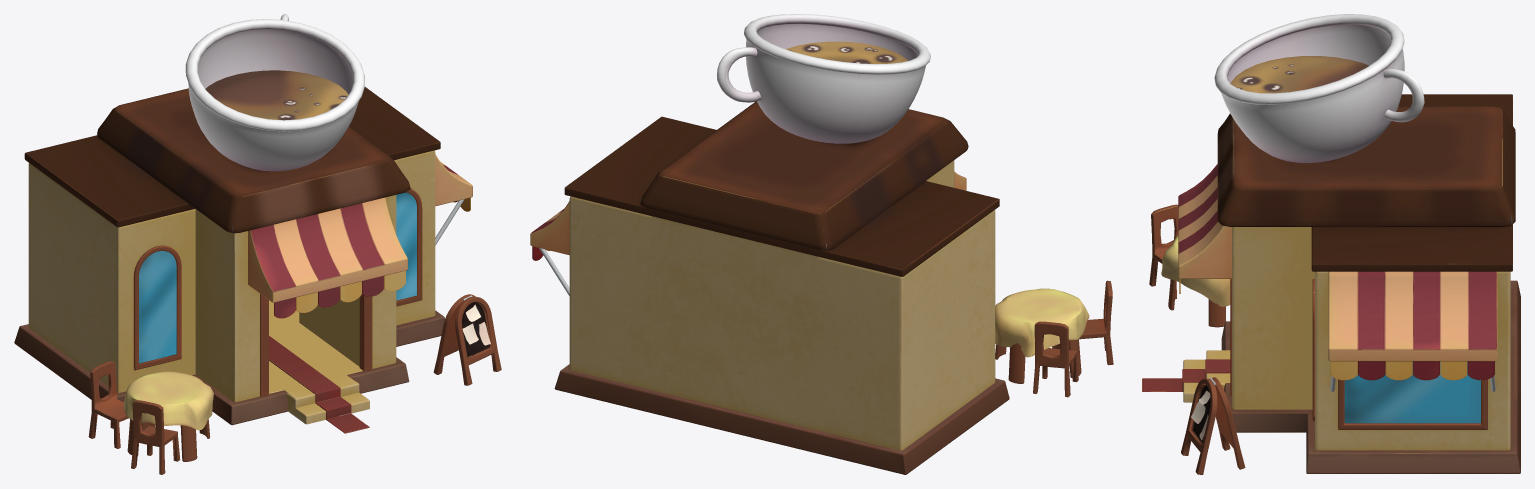
Rendered from stylized_coffee_shop_sketchfabweeklychallenge.glb.
3 views of the same model, side by side, from view 1: azimuth 30°, elevation 25°; view 2: azimuth 150°, elevation 25°; view 3: azimuth 270°, elevation 25° (orthographic). The views are drawn at different scales.
Parts seen in each view (by area): view 1: building1; view 2: building1; view 3: building1.
Part boxes in pixels (x1,y1,x2,y2): building1: (14,14,501,474); building1: (530,14,1113,474); building1: (1142,14,1520,474).
Bounding box in the file's own units: 0.2158 × 0.1626 × 0.1598.
1 material, 1 textured.
